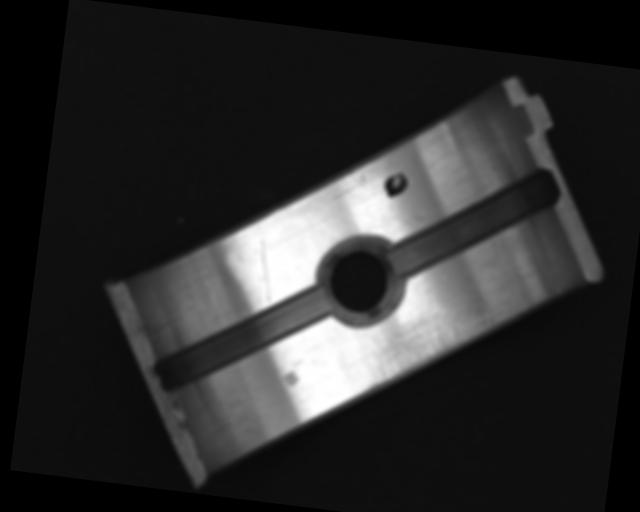blot: (381, 169, 410, 201)
bruise: (280, 368, 301, 389)
gap: (150, 265, 333, 411), (383, 151, 561, 294)
hole: (310, 229, 410, 331)
nick: (251, 237, 278, 302)
scratch: (362, 291, 511, 409)
